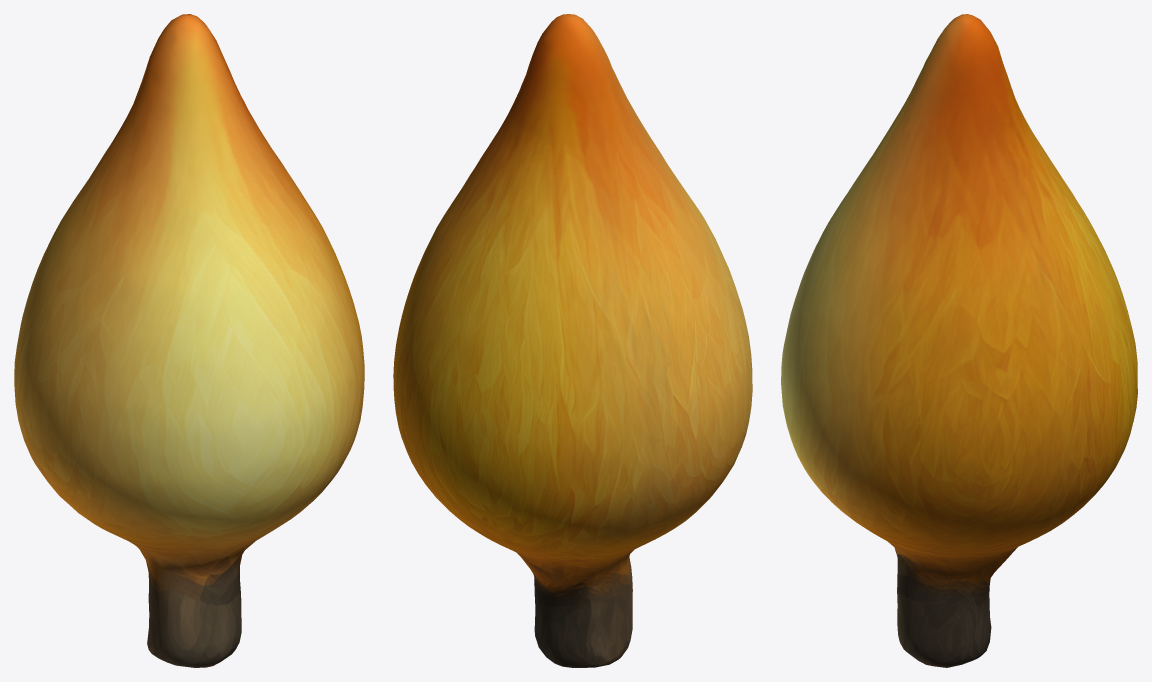
Rendered from Prop_HandCandle_Flame.fbx.
3 renders of one model, left to right at view 1: azimuth 30°, elevation 25°; view 2: azimuth 150°, elevation 25°; view 3: azimuth 270°, elevation 25°, orthographic. The views are drawn at different scales.
Parts seen in each view (by area): view 1: texture_mapping; view 2: texture_mapping; view 3: texture_mapping.
Part boxes in pixels (<box>): texture_mapping: <box>14,14,364,667</box>; texture_mapping: <box>393,14,752,667</box>; texture_mapping: <box>781,14,1137,667</box>.
Size of the model in its own units: 0.5055 by 0.5055 by 1.
1 material, 1 textured.
